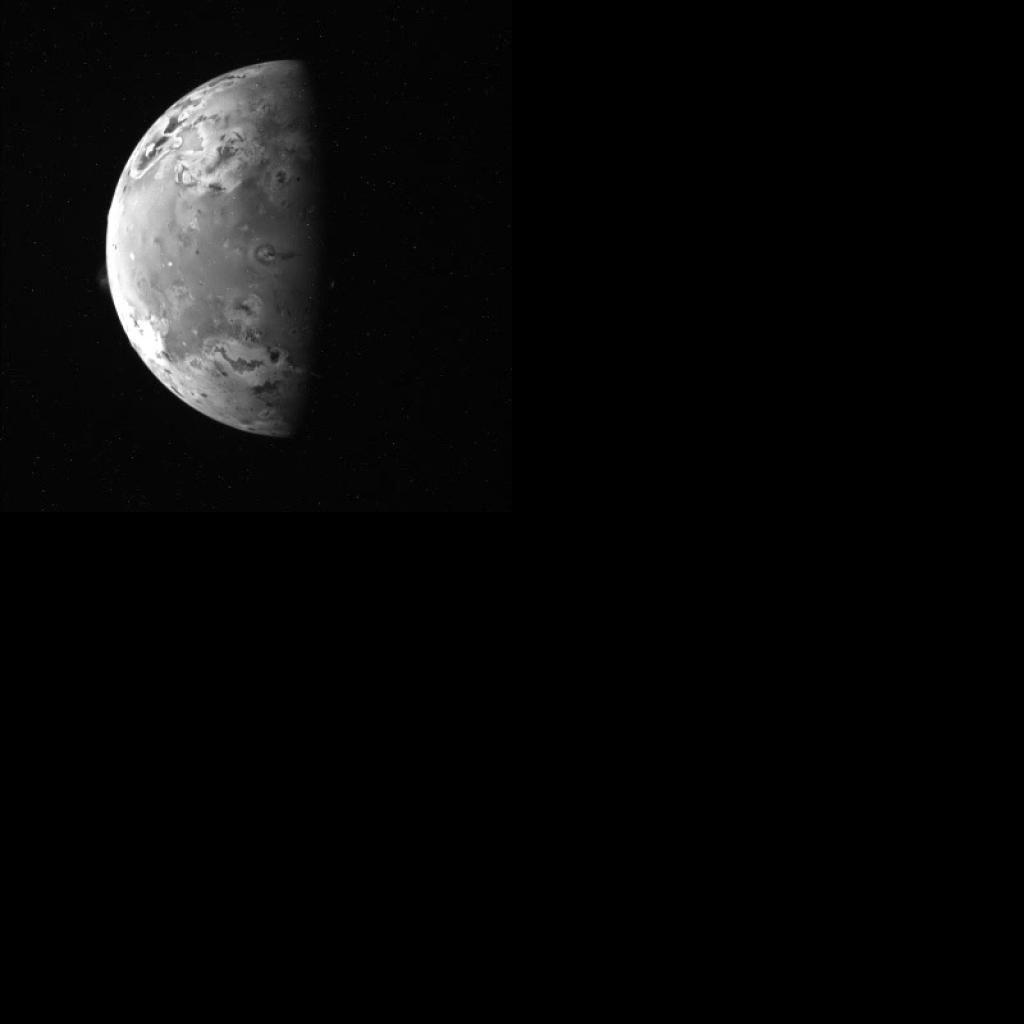plumes: (97, 267, 112, 290)
